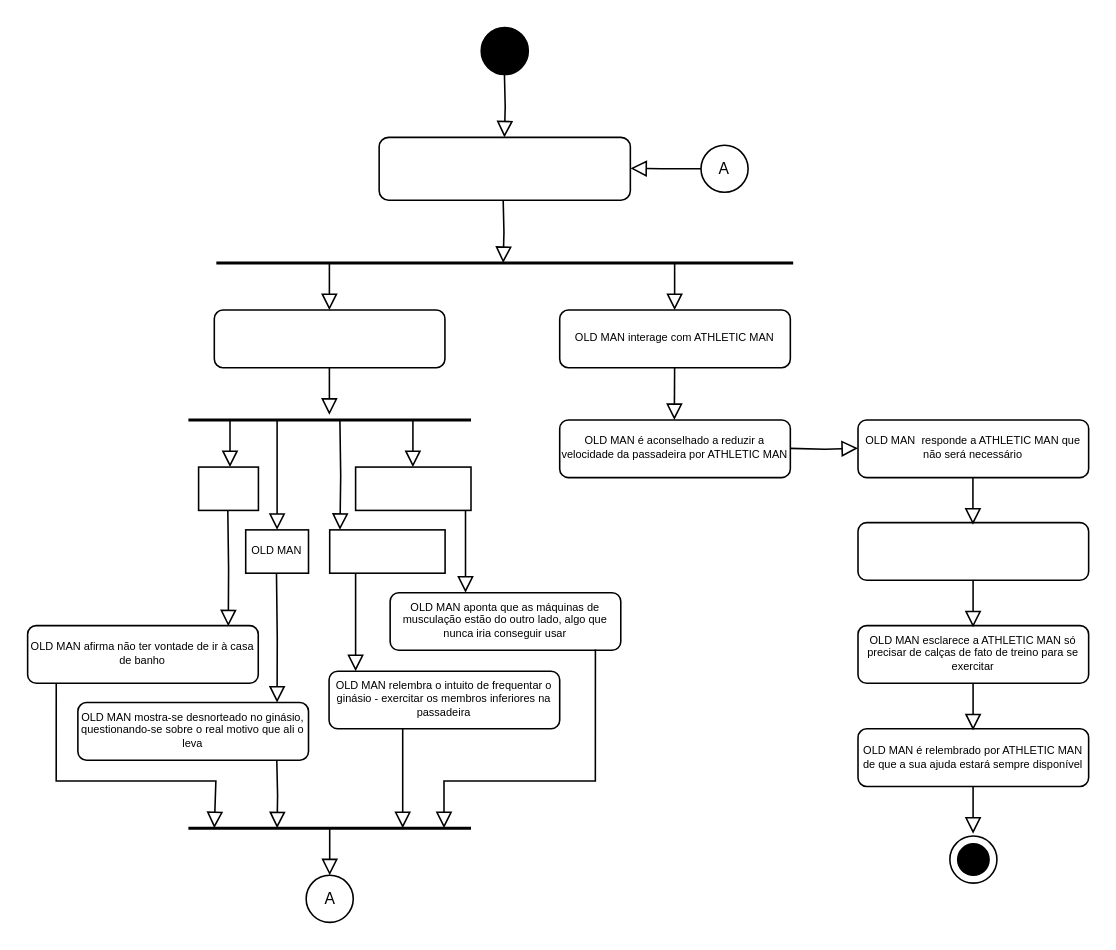
This 1116x950 diagram has some shape labels left out. The centre of each missing label's shape, as x and y in pixels:
Logótipo do ginásio (no chão): (386,550)
OLD MAN encontra-se no ginásio na passadeira de corrida: (504,168)
OLD MAN inspeciona objeto no ambiente: (329,338)
OLD MAN é aconselhado a trazer roupa desportiva por ATHLETIC MAN: (972,550)
Portas automáticas: (412,488)
WC: (227,488)
